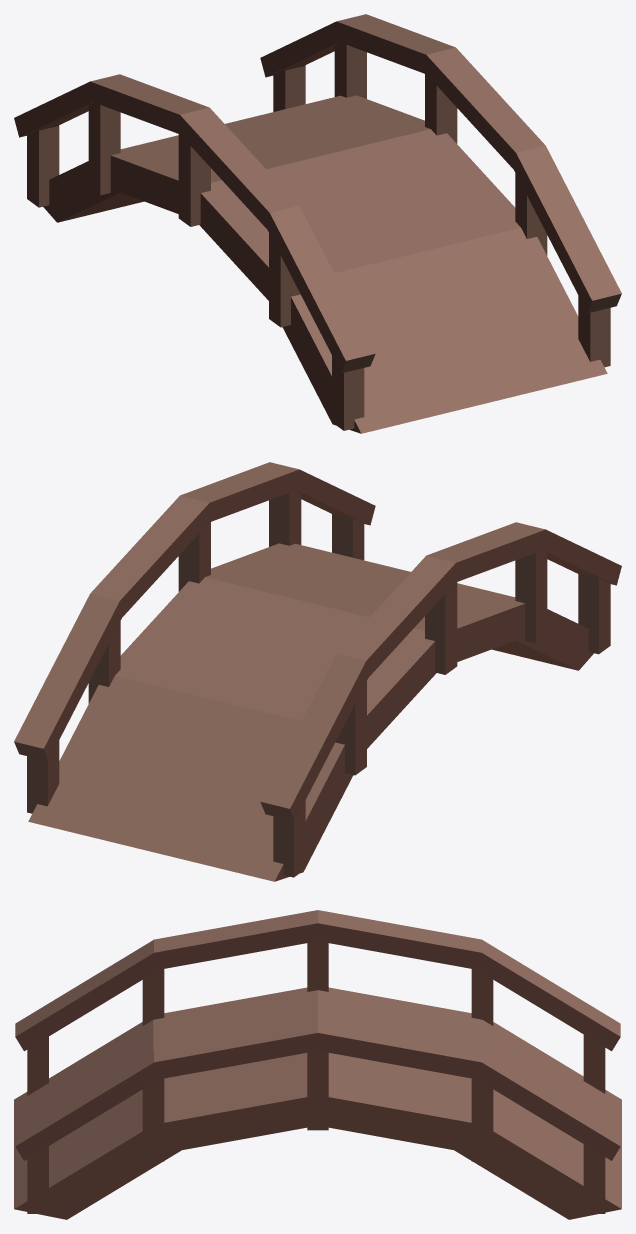
The model's file is SF_Bld_Elven_Bridge_01.fbx.
3 renders of one model, top to bottom at view 1: azimuth 30°, elevation 25°; view 2: azimuth 150°, elevation 25°; view 3: azimuth 270°, elevation 25°, orthographic. The views are drawn at different scales.
Parts seen in each view (by area): view 1: SF_Bld_Elven_Bridge_01; view 2: SF_Bld_Elven_Bridge_01; view 3: SF_Bld_Elven_Bridge_01.
Boxes of the visible parts, left/top/right/bottom form: SF_Bld_Elven_Bridge_01: left=14, top=14, right=621, bottom=433; SF_Bld_Elven_Bridge_01: left=14, top=462, right=621, bottom=881; SF_Bld_Elven_Bridge_01: left=14, top=910, right=621, bottom=1219.
Bounding box in the file's own units: 2.62 × 1.93 × 5.48.
